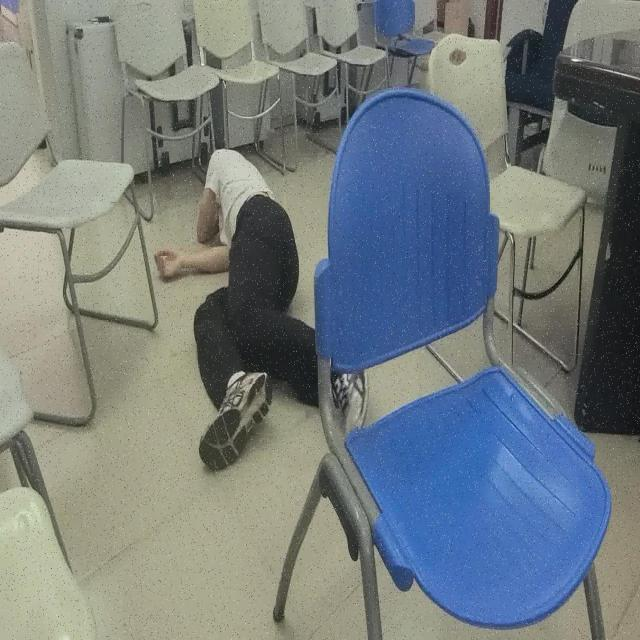fall: (154, 145, 369, 454)
